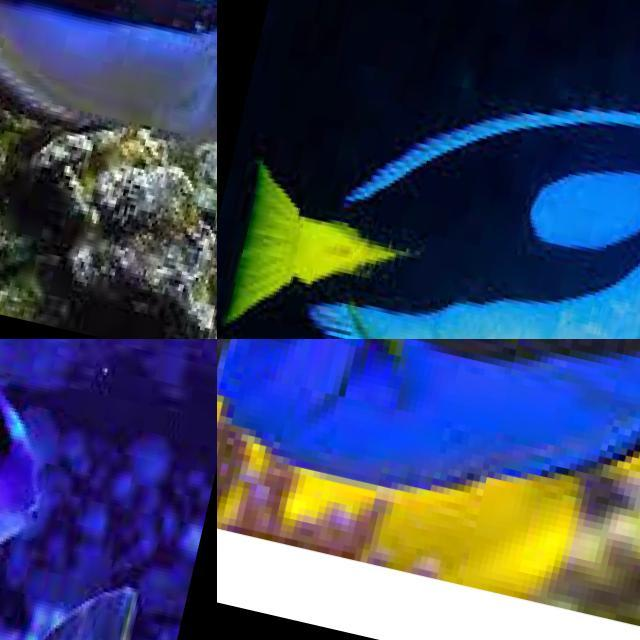BlueTang: (238, 106, 640, 339), (244, 339, 640, 490)
